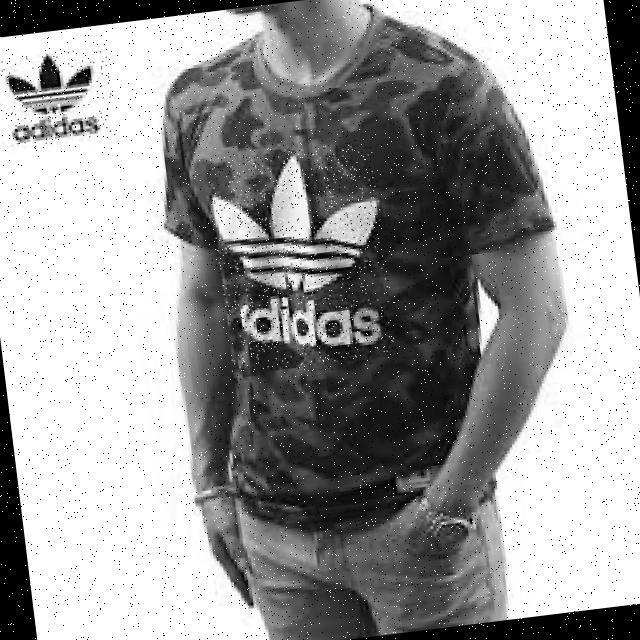Adidas: (206, 139, 398, 374), (0, 46, 117, 150)
